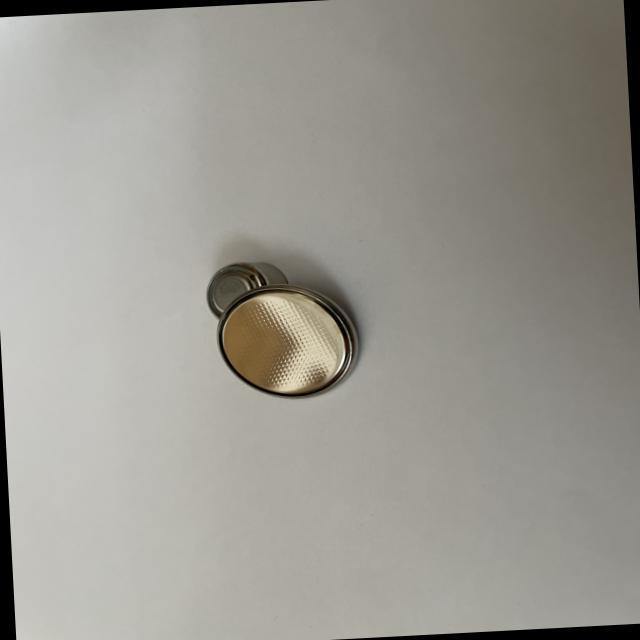COIN: (212, 282, 364, 402), (204, 260, 293, 318)
